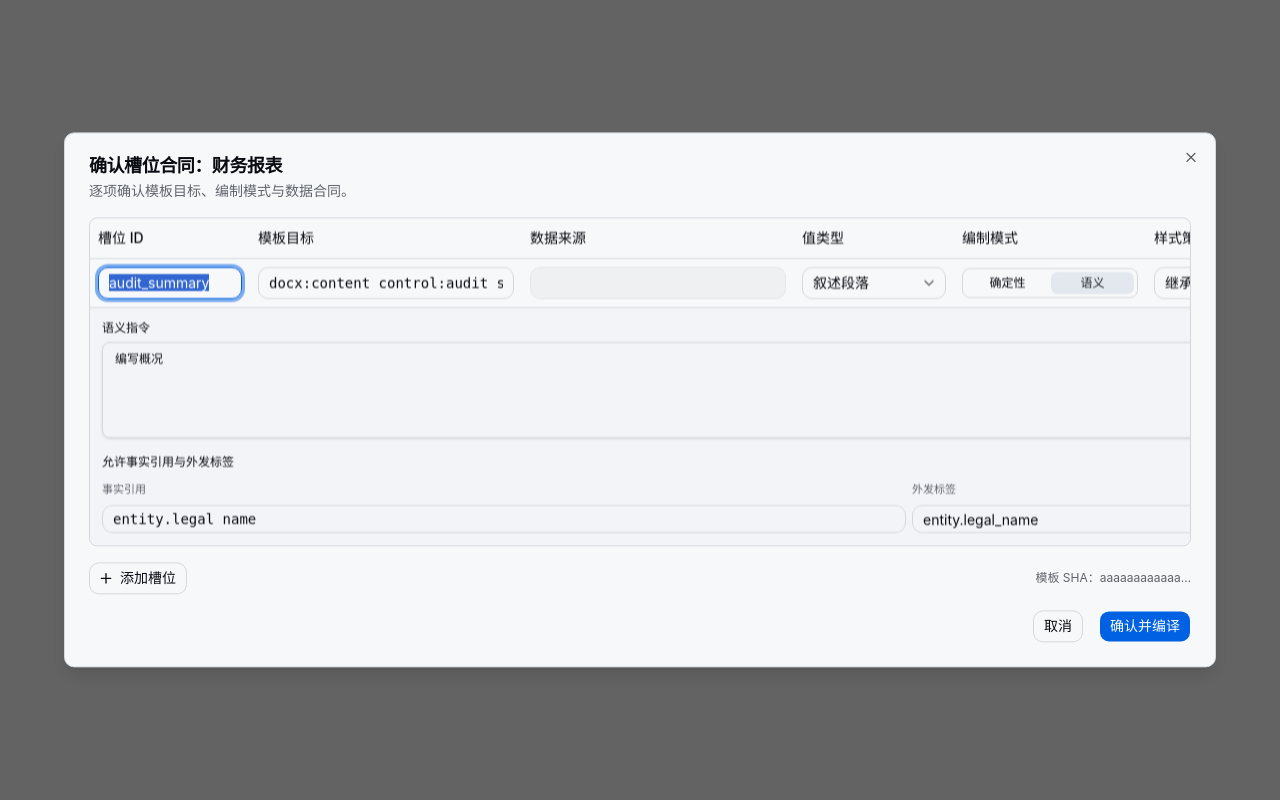
Scenario: Attachment template binding options › blocks internal fact keys in semantic external labels
Click the button "确认并编译" at (1145, 627), box [1099,611,1191,643]
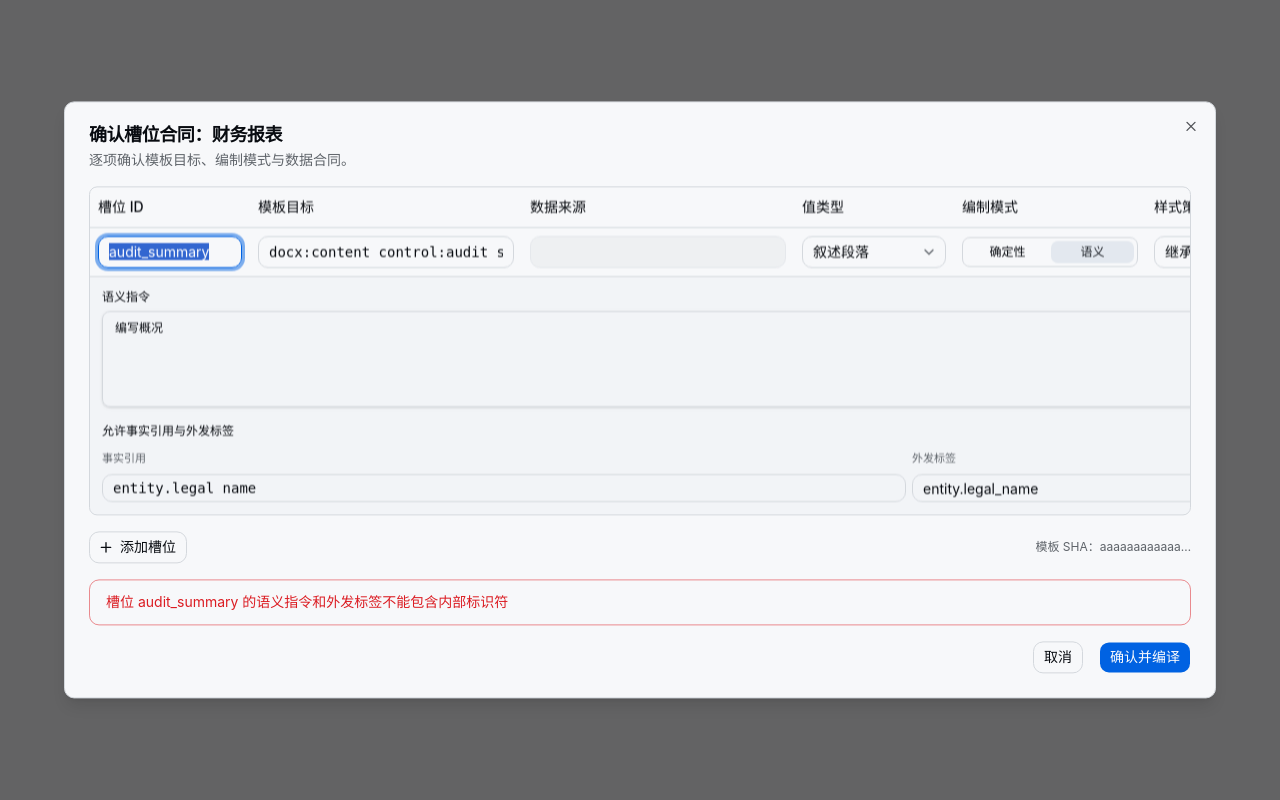
Check: the text "槽位 audit_summary 的语义指令和外发标签不能包含内部标识符" is shown, box [106,593,508,613]
